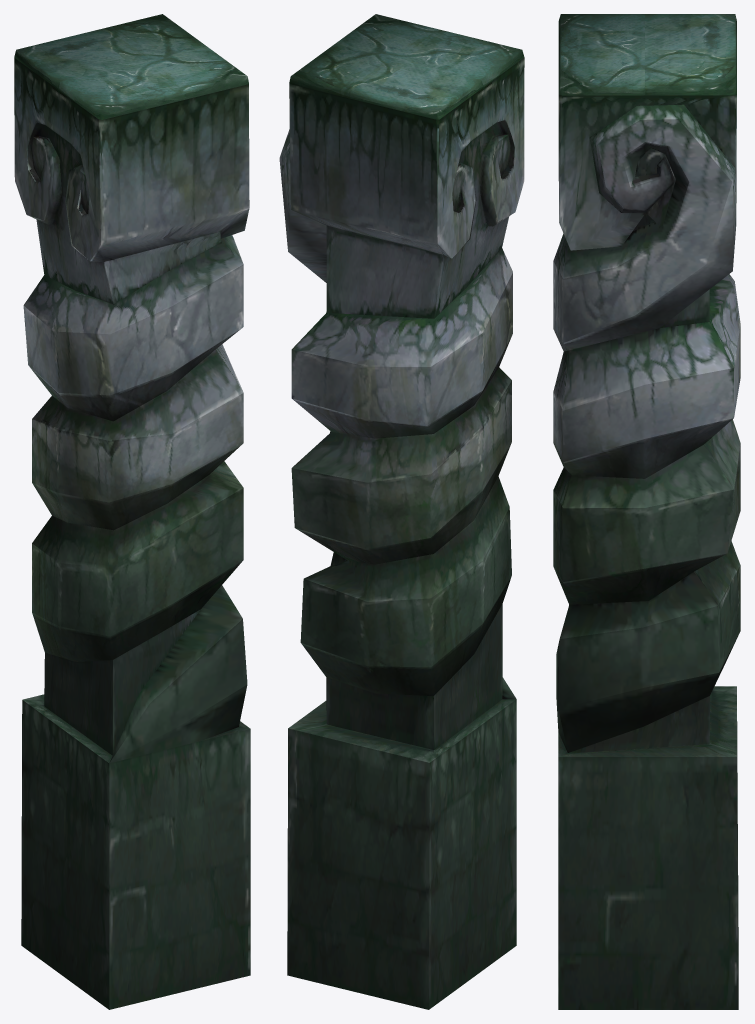
The model's file is sunken_pillar_large_01.fbx.
The picture shows the model from 3 angles, left to right: view 1: azimuth 30°, elevation 25°; view 2: azimuth 150°, elevation 25°; view 3: azimuth 270°, elevation 25°; orthographic projection. The views are drawn at different scales.
Visible parts, largest first — view 1: sunken_pillar_large_01-0; view 2: sunken_pillar_large_01-0; view 3: sunken_pillar_large_01-0.
Boxes of the visible parts, box(x1,y1,x2,y2) form: sunken_pillar_large_01-0: box(14, 14, 250, 1009); sunken_pillar_large_01-0: box(279, 14, 524, 1009); sunken_pillar_large_01-0: box(553, 14, 740, 1009).
Size of the model in its own units: 3.14 by 16.5 by 3.04.
